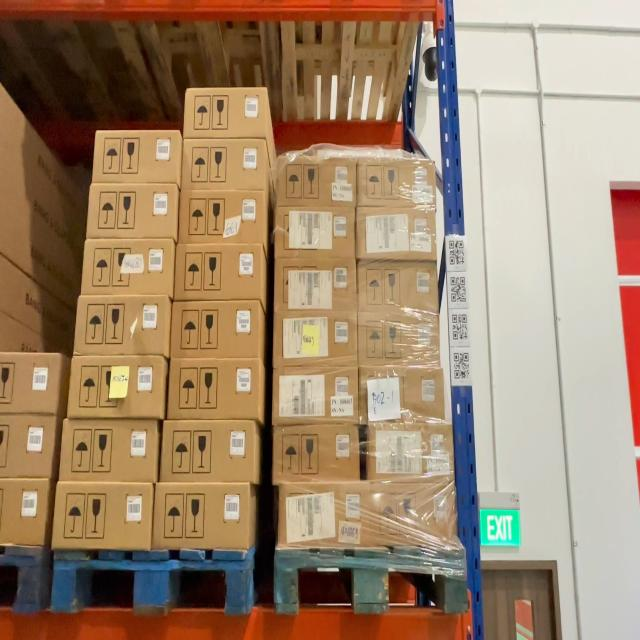box: (160, 417, 257, 488), (57, 479, 154, 548), (281, 478, 369, 553), (370, 477, 454, 553), (168, 358, 260, 422), (159, 486, 248, 552), (75, 294, 169, 356), (61, 420, 158, 478), (178, 239, 263, 305), (82, 241, 177, 300), (173, 302, 264, 362), (274, 421, 363, 482), (274, 314, 360, 372), (361, 367, 444, 427), (71, 355, 159, 411), (88, 178, 172, 236), (274, 364, 360, 420), (368, 420, 450, 478), (92, 130, 180, 184), (182, 134, 266, 190), (277, 202, 356, 260), (180, 188, 266, 240), (361, 314, 442, 369), (275, 258, 357, 311), (357, 262, 437, 316), (184, 89, 267, 141), (361, 206, 438, 262), (359, 156, 435, 210), (277, 154, 359, 204)
